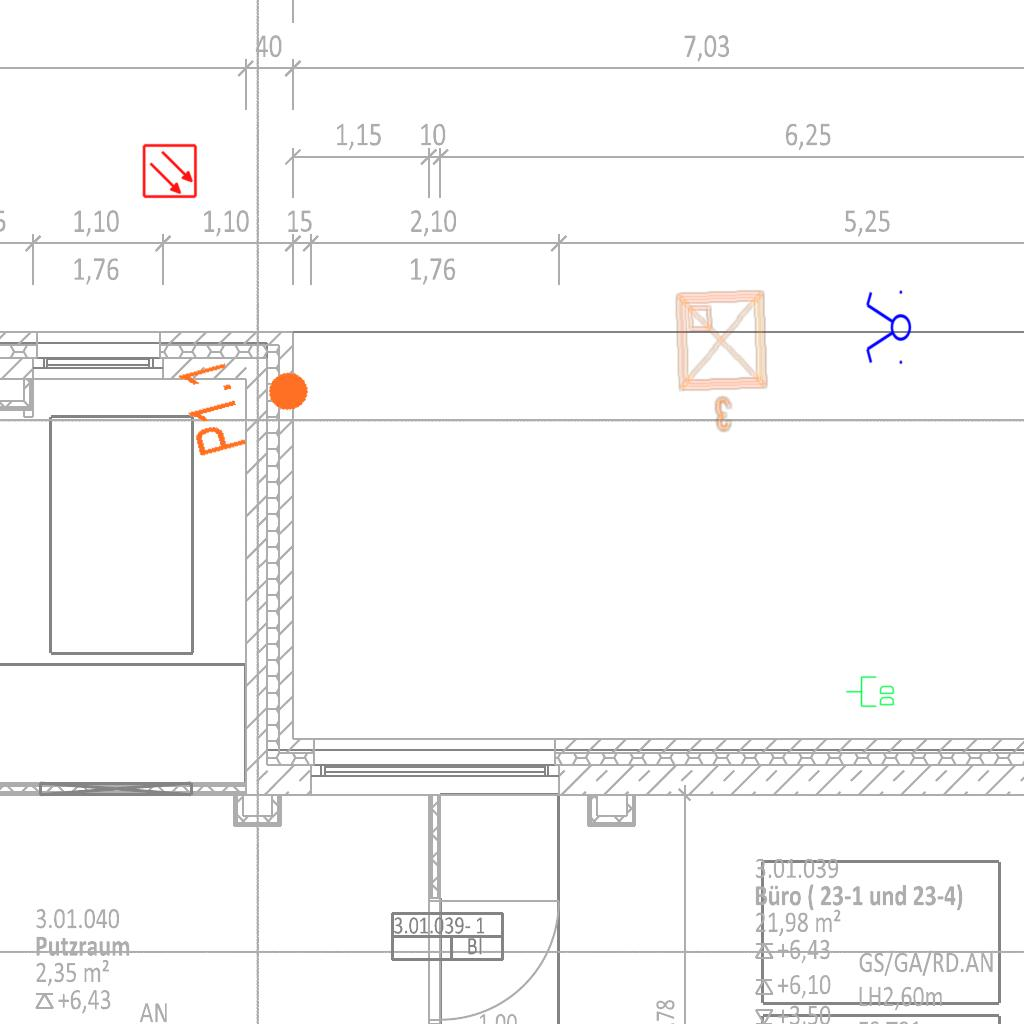Datenanschluss_zweifach: (845, 675, 896, 709)
Downlight_LED_Einbauleuchten_Flur: (173, 337, 322, 461)
Einbaudownlights_LED_Konferenzraeume: (669, 284, 779, 438)
RMO_Rauchmelder_optischer: (142, 143, 198, 199)
Serienschalter: (864, 286, 912, 370)
